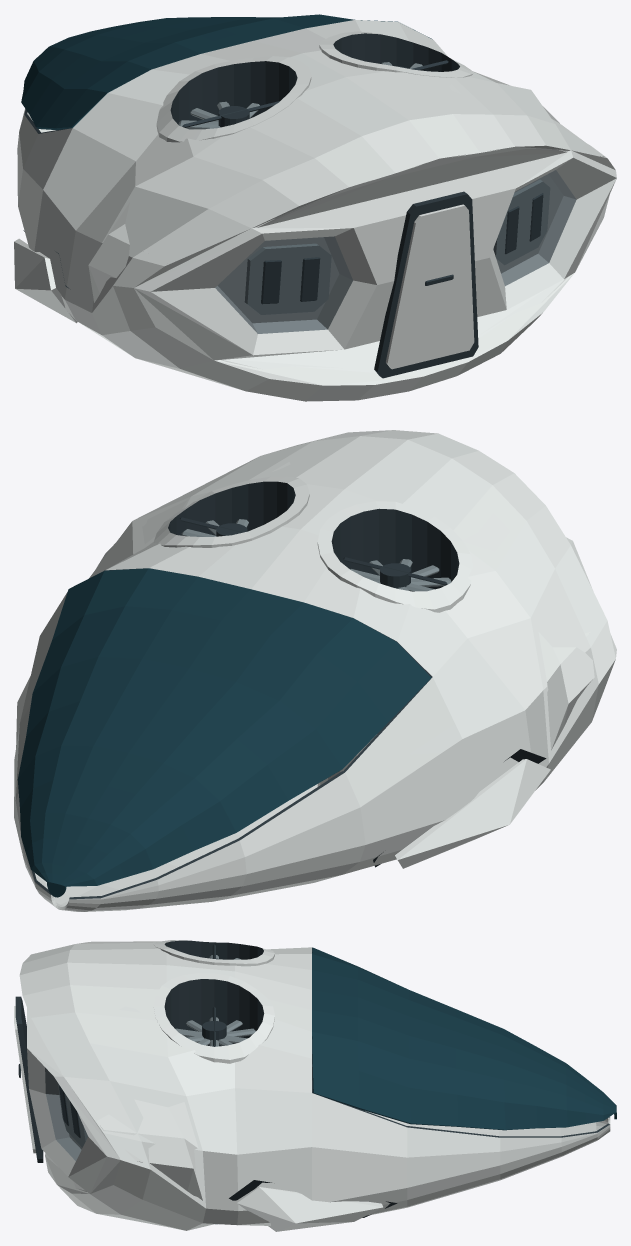
The model's file is Drone50Wide.fbx.
3 views of the same model, one above another, from view 1: azimuth 30°, elevation 25°; view 2: azimuth 150°, elevation 25°; view 3: azimuth 270°, elevation 25° (orthographic). The views are drawn at different scales.
Visible parts, largest first — view 1: Continuous lifting-body shell, One wraparound visor, Central cargo hatch, Recessed lift-fan duct, Recessed lift-fan duct.001, Square recessed exhaust opening, Cargo hatch dark surround, Sculpted folded ivory arm Left, Square recessed exhaust opening.001, Square exhaust dark slot, Square exhaust dark slot.001, Fan hub; view 2: Continuous lifting-body shell, One wraparound visor, Recessed lift-fan duct, Recessed lift-fan duct.001, Sculpted folded ivory arm Left, Raised canopy perimeter seal, Fan hub; view 3: Continuous lifting-body shell, One wraparound visor, Recessed lift-fan duct.001, Sculpted folded ivory arm Right, Recessed lift-fan duct, Cargo hatch dark surround, Raised canopy perimeter seal, Central cargo hatch, Square recessed exhaust opening.001, Fan hub.001.
Part boxes in pixels (bbox=[...]): Continuous lifting-body shell: bbox=[17, 20, 616, 401]; One wraparound visor: bbox=[21, 14, 432, 130]; Central cargo hatch: bbox=[386, 204, 474, 369]; Recessed lift-fan duct: bbox=[156, 56, 311, 142]; Recessed lift-fan duct.001: bbox=[319, 31, 473, 77]; Square recessed exhaust opening: bbox=[244, 243, 331, 314]; Cargo hatch dark surround: bbox=[374, 191, 478, 378]; Sculpted folded ivory arm Left: bbox=[14, 238, 77, 323]; Square recessed exhaust opening.001: bbox=[493, 179, 550, 265]; Square exhaust dark slot: bbox=[261, 260, 281, 304]; Square exhaust dark slot.001: bbox=[300, 257, 320, 301]; Fan hub: bbox=[218, 106, 249, 127]; Continuous lifting-body shell: bbox=[14, 430, 616, 911]; One wraparound visor: bbox=[17, 568, 431, 897]; Recessed lift-fan duct: bbox=[317, 501, 472, 786]; Recessed lift-fan duct.001: bbox=[154, 476, 309, 547]; Sculpted folded ivory arm Left: bbox=[395, 759, 550, 868]; Raised canopy perimeter seal: bbox=[31, 568, 432, 899]; Fan hub: bbox=[380, 563, 410, 588]; Continuous lifting-body shell: bbox=[19, 941, 610, 1230]; One wraparound visor: bbox=[312, 947, 616, 1130]; Recessed lift-fan duct.001: bbox=[153, 973, 274, 1063]; Sculpted folded ivory arm Right: bbox=[237, 1187, 383, 1231]; Recessed lift-fan duct: bbox=[153, 940, 274, 966]; Cargo hatch dark surround: bbox=[15, 996, 43, 1162]; Raised canopy perimeter seal: bbox=[312, 948, 609, 1137]; Central cargo hatch: bbox=[14, 1006, 35, 1153]; Square recessed exhaust opening.001: bbox=[58, 1083, 87, 1147]; Fan hub.001: bbox=[202, 1021, 226, 1045].
Size of the model in its own units: 3.29 by 1.85 by 4.42.
7 materials, 1 textured.
